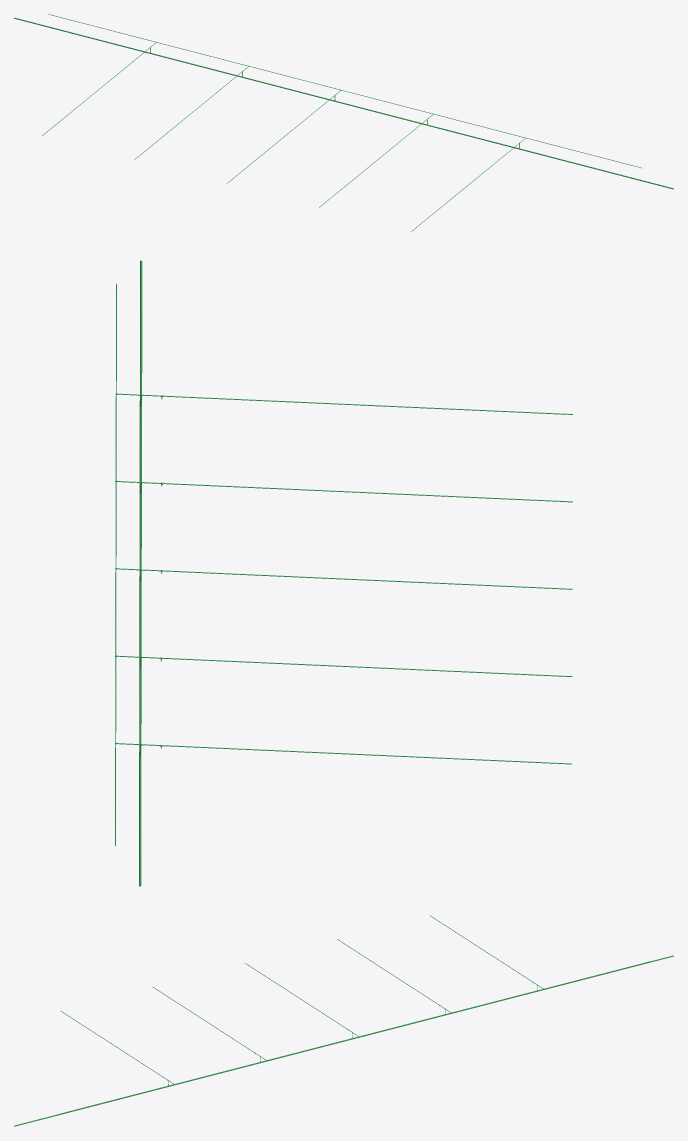
Rendered from fireoff.glb.
The picture shows the model from 3 angles, top to bottom: view 1: azimuth 30°, elevation 25°; view 2: azimuth 150°, elevation 25°; view 3: azimuth 270°, elevation 25°; orthographic projection. The views are drawn at different scales.
Visible parts, largest first — view 1: neutral, main; view 2: neutral, main; view 3: neutral, main.
Boxes of the visible parts, <box> form: neutral: <box>42,14,641,231</box>; main: <box>14,17,673,189</box>; neutral: <box>115,283,572,845</box>; main: <box>139,260,142,886</box>; neutral: <box>58,915,651,1114</box>; main: <box>14,955,673,1126</box>.
Bounding box in the file's own units: 32.15 × 1.27 × 43.35.
